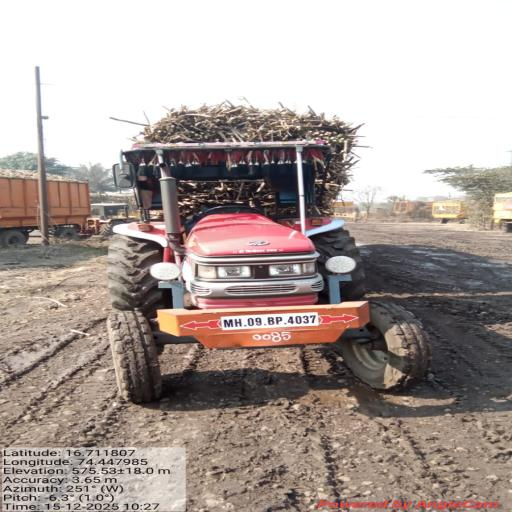number_plate: (221, 312, 319, 330)
